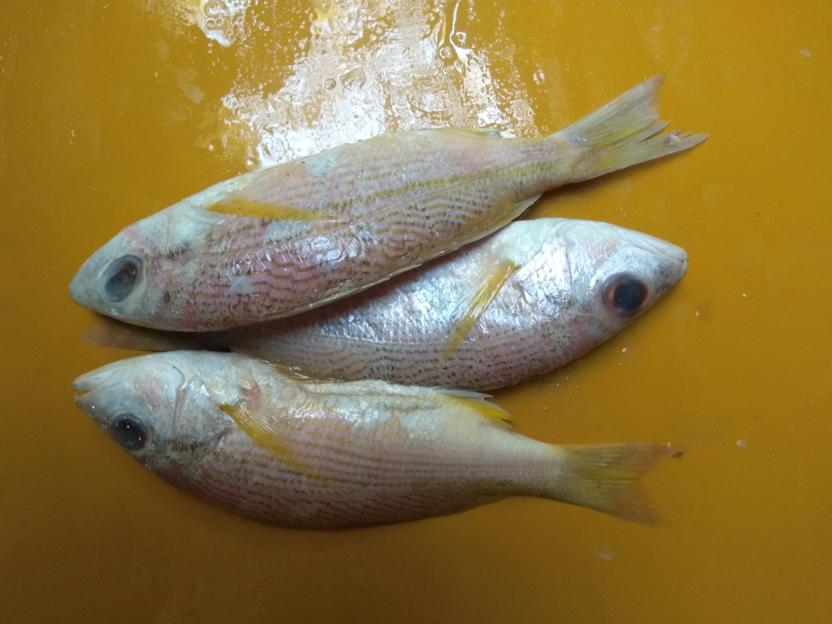Fish head: (520, 224, 689, 345), (69, 194, 203, 333), (70, 351, 231, 464)
Fish tail: (557, 74, 709, 187), (552, 441, 675, 531)
